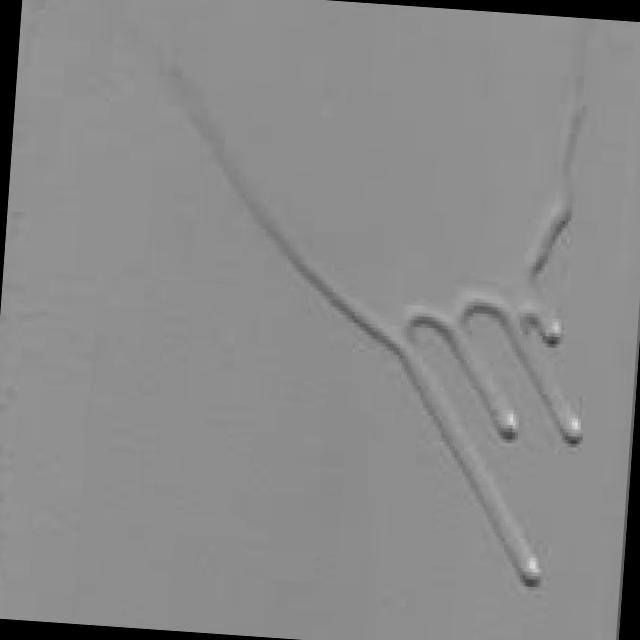paint drips: (126, 0, 620, 618)
